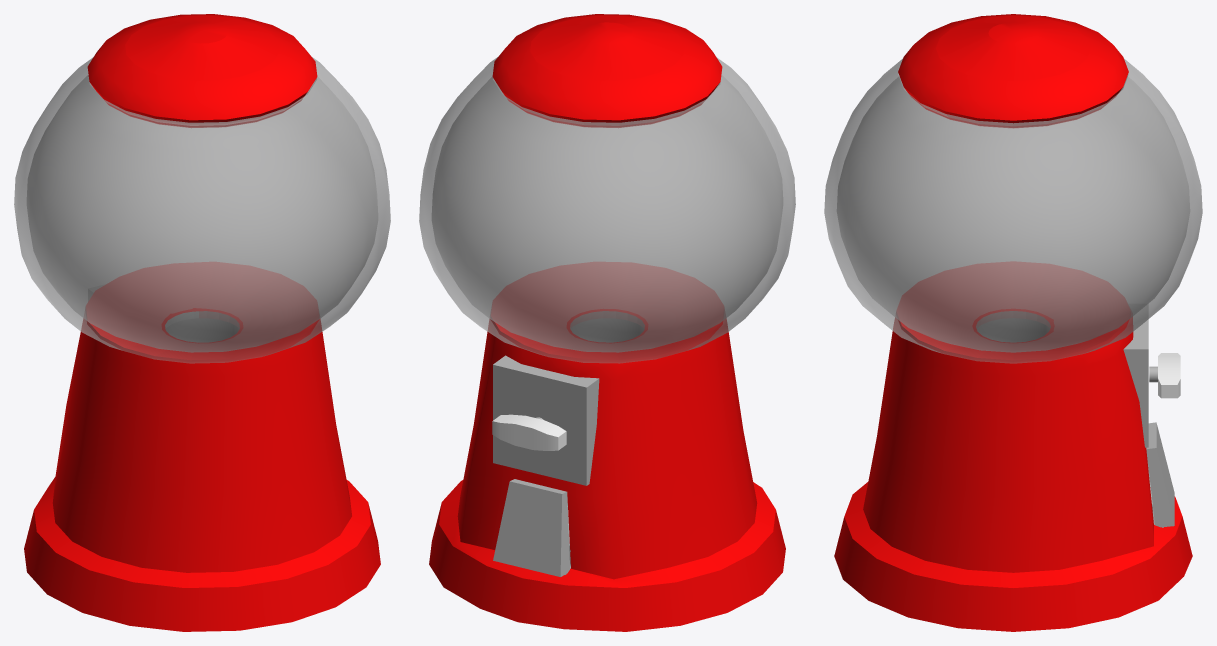
Rendered from gumball-machine.glb.
3 renders of one model, left to right at view 1: azimuth 30°, elevation 25°; view 2: azimuth 150°, elevation 25°; view 3: azimuth 270°, elevation 25°, orthographic.
Parts seen in each view (by area): view 1: polySurface7_RED_0, glass, polySurface6_RED_0, tube; view 2: glass, polySurface7_RED_0, polySurface6_RED_0, pCube1_lambert1_0, door, switch, tube; view 3: polySurface7_RED_0, glass, polySurface6_RED_0, door, pCube1_lambert1_0, tube, switch.
Part boxes in pixels (<box>): polySurface7_RED_0: <box>24,262,380,631</box>; glass: <box>14,56,390,363</box>; polySurface6_RED_0: <box>87,14,317,127</box>; tube: <box>166,318,238,342</box>; glass: <box>419,56,795,363</box>; polySurface7_RED_0: <box>429,262,785,631</box>; polySurface6_RED_0: <box>492,14,722,127</box>; pCube1_lambert1_0: <box>493,355,599,485</box>; door: <box>493,479,569,576</box>; switch: <box>492,414,566,450</box>; tube: <box>565,318,643,574</box>; polySurface7_RED_0: <box>834,262,1192,631</box>; glass: <box>824,58,1202,363</box>; polySurface6_RED_0: <box>898,14,1128,128</box>; door: <box>1146,422,1174,527</box>; pCube1_lambert1_0: <box>1123,304,1148,447</box>; tube: <box>977,318,1163,527</box>; switch: <box>1158,353,1180,398</box>.
Size of the model in its own units: 1.21 by 1.91 by 1.21.
